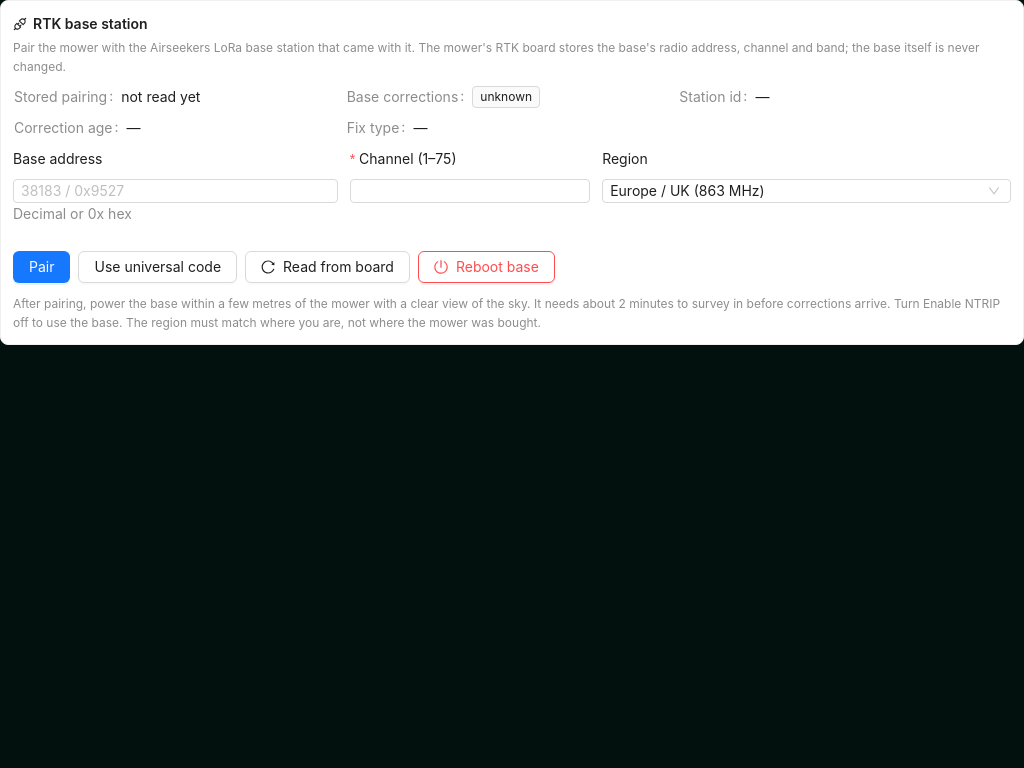
Test case: RtkBaseCard › reports a refused pairing
This screenshot has width=1024, height=768.
Type "0x1234" into the field with placeholder "38183 / 0x9527" at (175, 191), box [13,179,338,203]
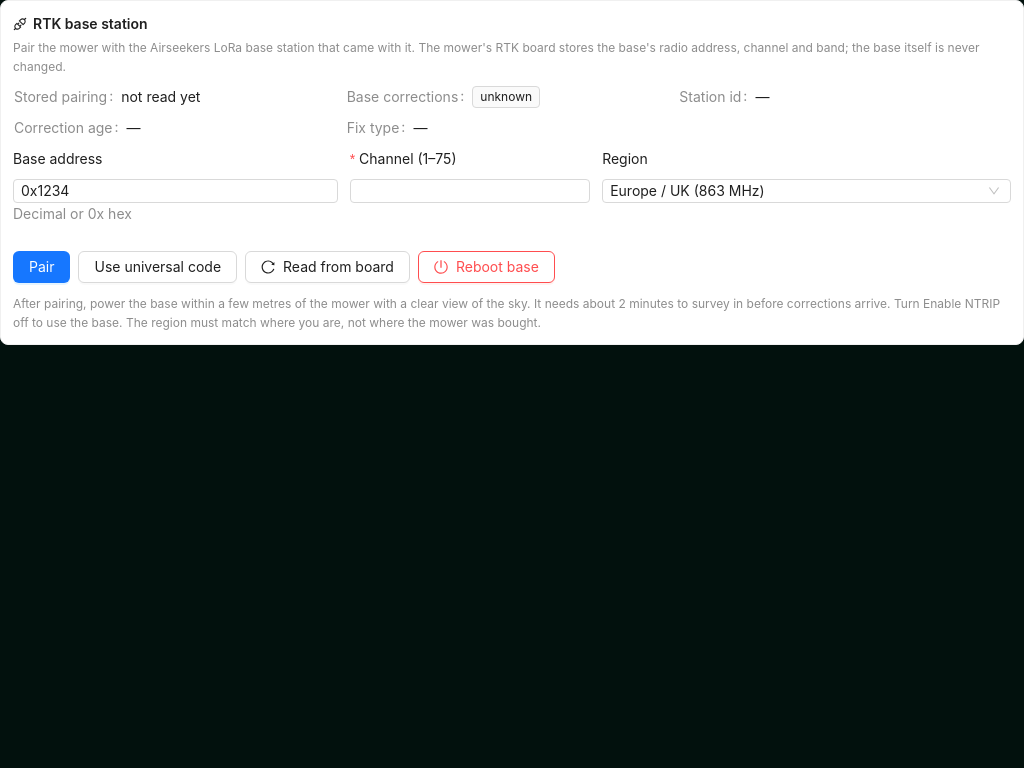
Type "12" into the number field at (470, 191), box [351,180,589,202]
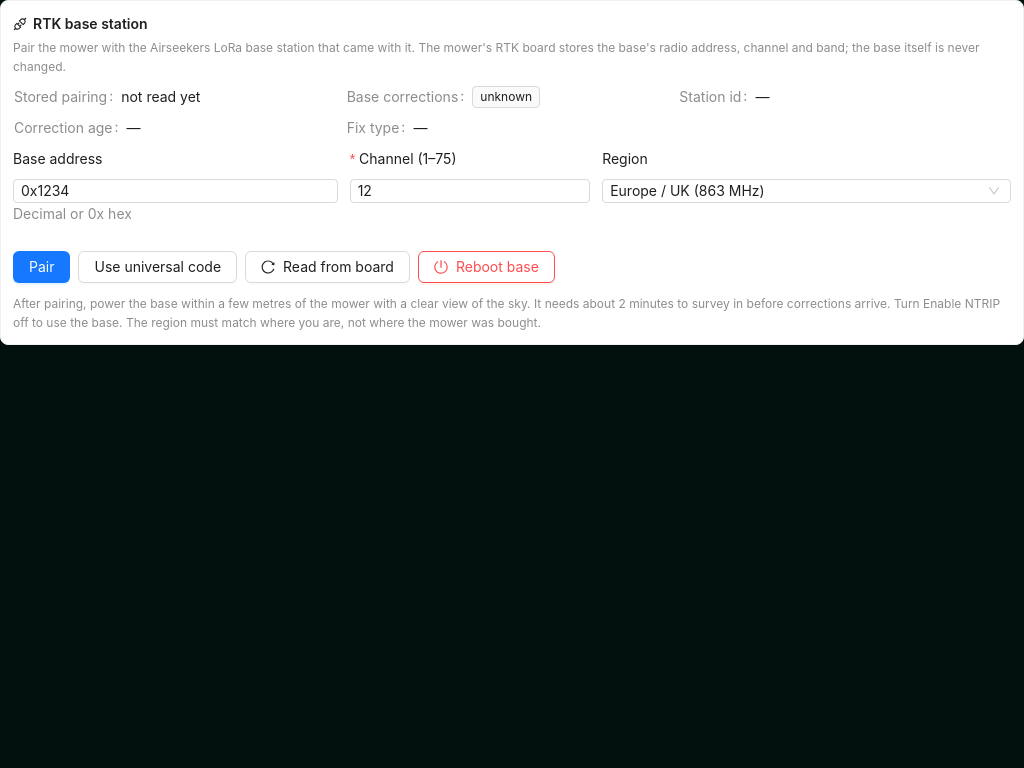
Click the button "Pair" at (42, 267), box [13,251,70,283]
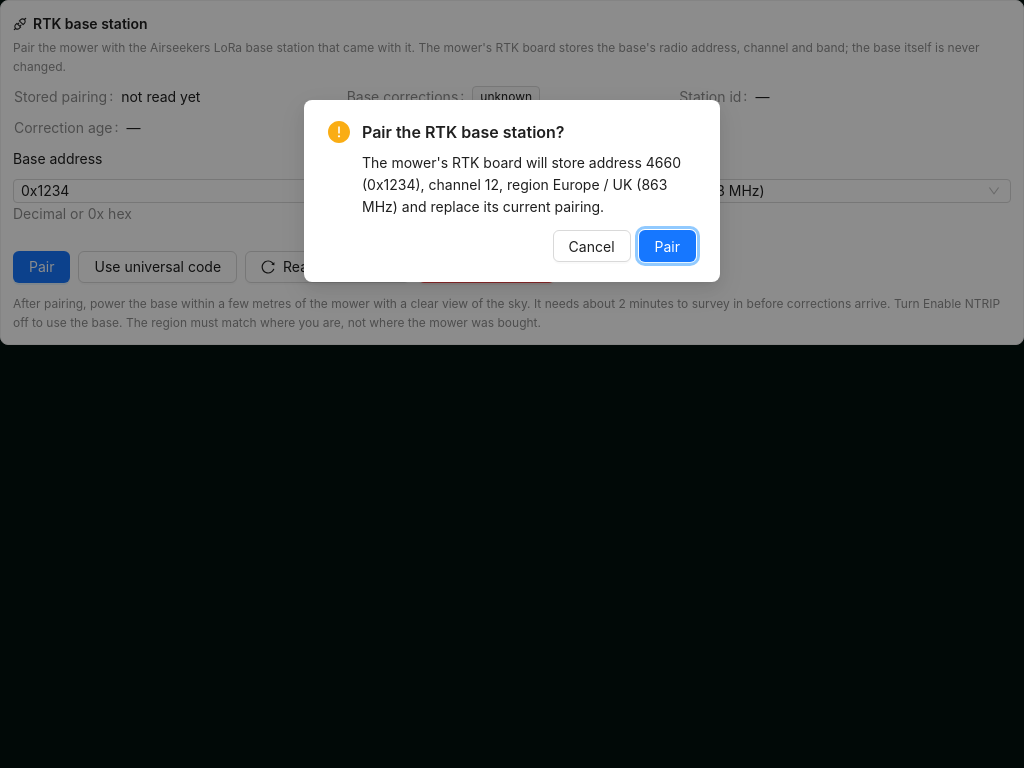
Click the button "Pair" at (667, 246), box [638,230,696,262]
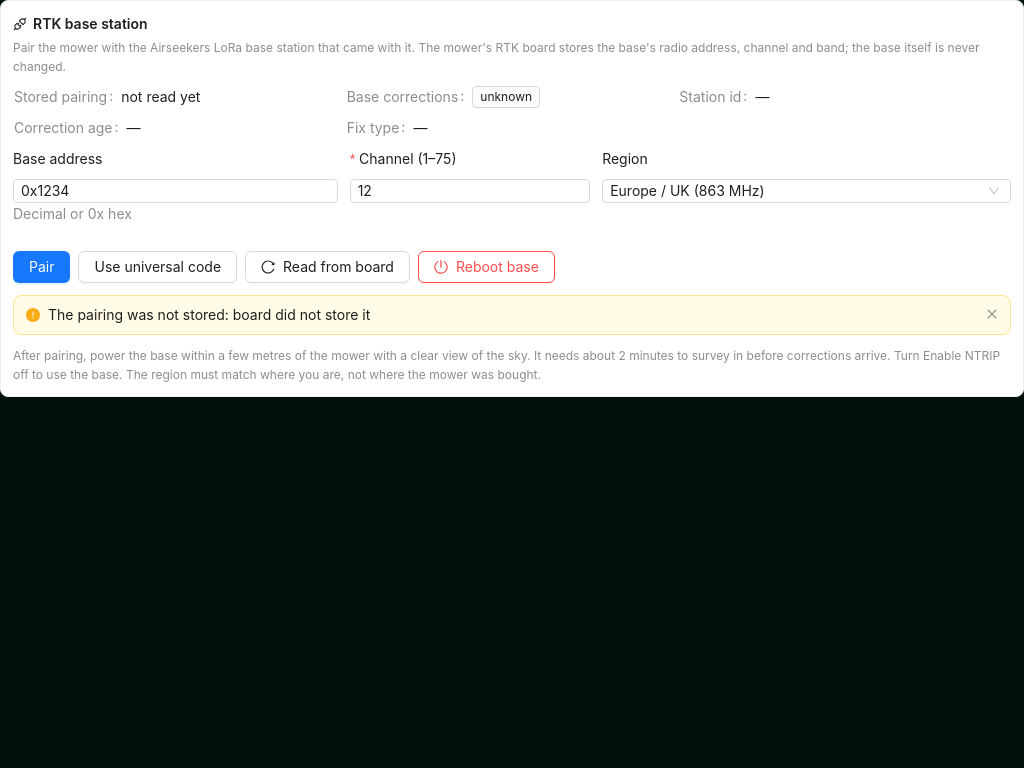
Expected: the text "The pairing was not stored: board did not store it" is shown, [48,306,370,323]
